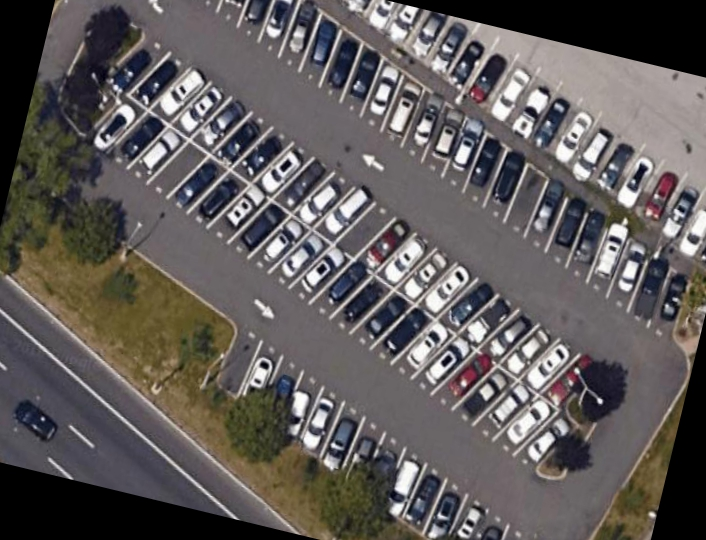parkingspot: (77, 31, 619, 477), (194, 0, 695, 350), (336, 0, 706, 272), (213, 318, 532, 540)
